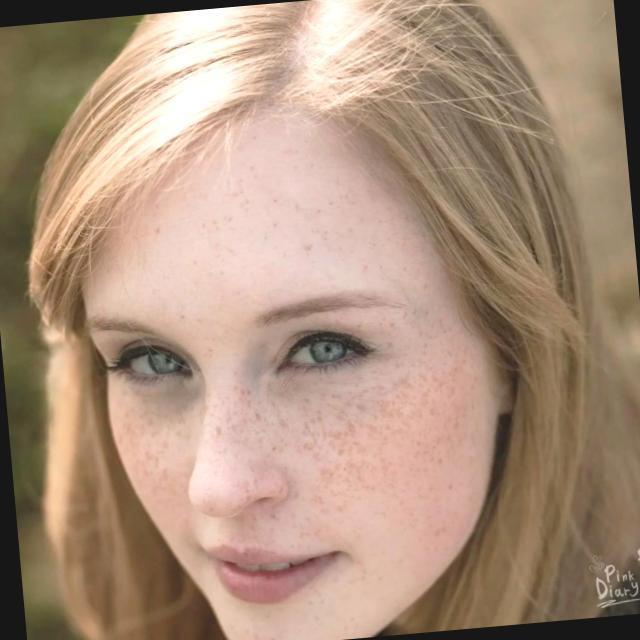freckle: (110, 331, 491, 568), (172, 136, 431, 300)
